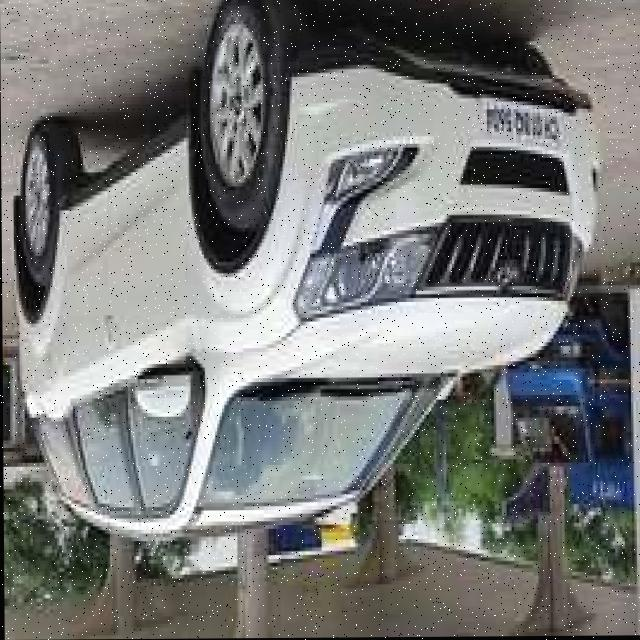plate: (480, 99, 563, 150)
